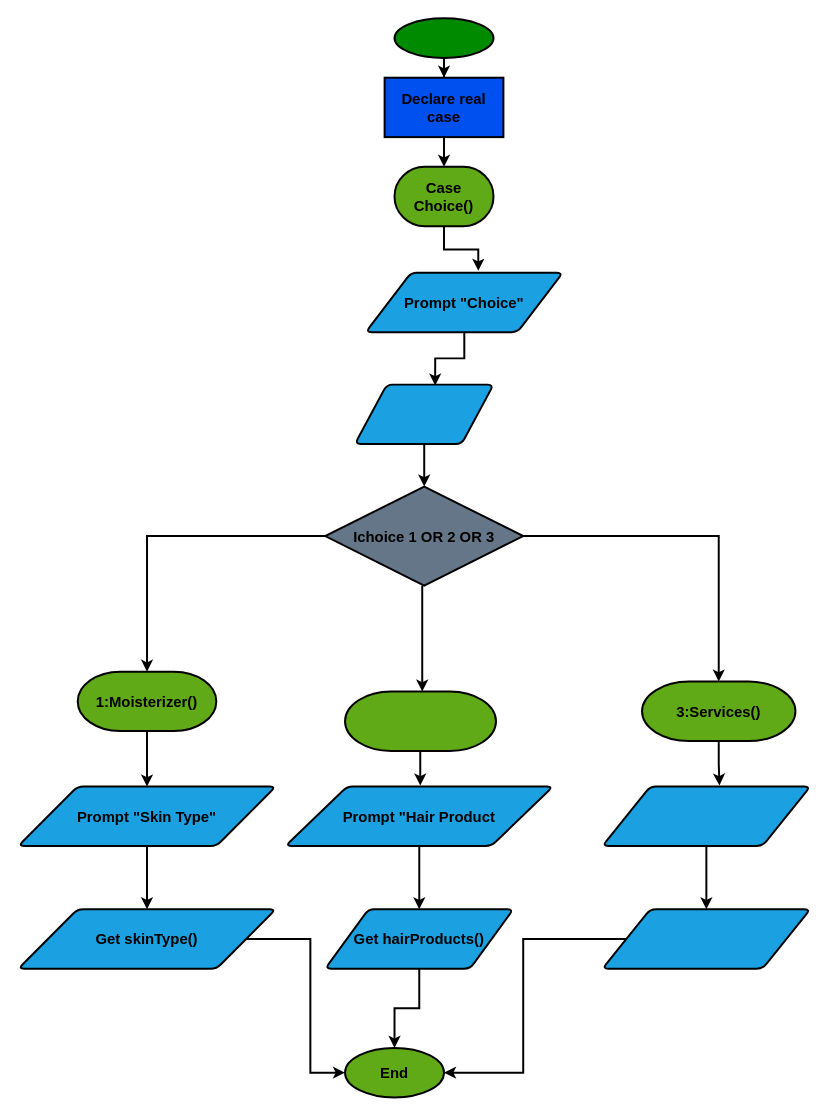
This 828x1115 diagram has some shape labels left out. Here are the shapes that lost their labels. From the top down, the centre of each, then its label:
pixel 443 37: START
pixel 423 414: Get Choice
pixel 420 720: 2:Hair()
pixel 706 815: Prompt "Services"
pixel 706 938: Get Services()
